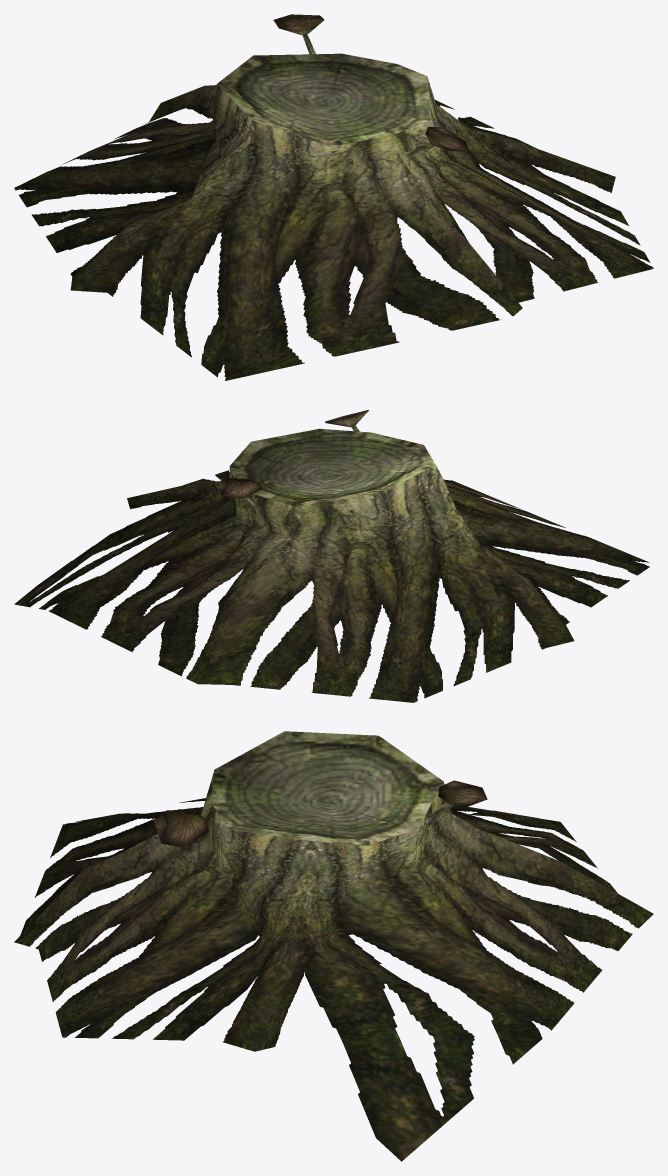
The model's file is tre_dead_tre01.glb.
3 renders of one model, top to bottom at view 1: azimuth 30°, elevation 25°; view 2: azimuth 150°, elevation 25°; view 3: azimuth 270°, elevation 25°, orthographic. The views are drawn at different scales.
Parts seen in each view (by area): view 1: tre_dead_tre01; view 2: tre_dead_tre01; view 3: tre_dead_tre01.
Part boxes in pixels (<box>): tre_dead_tre01: <box>14,14,653,380</box>; tre_dead_tre01: <box>14,410,649,702</box>; tre_dead_tre01: <box>14,731,653,1161</box>.
Bounding box in the file's own units: 8.49 × 3.08 × 7.81.
Materials: 1 (1 with a texture image).
